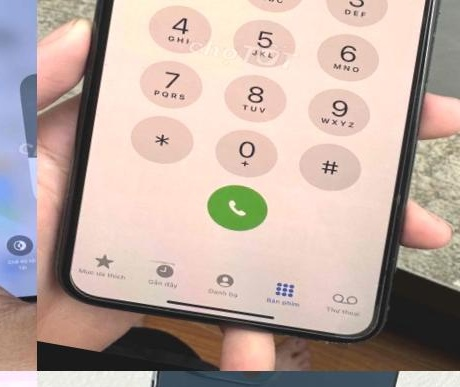scratch: (335, 330, 364, 350), (356, 317, 382, 337)
